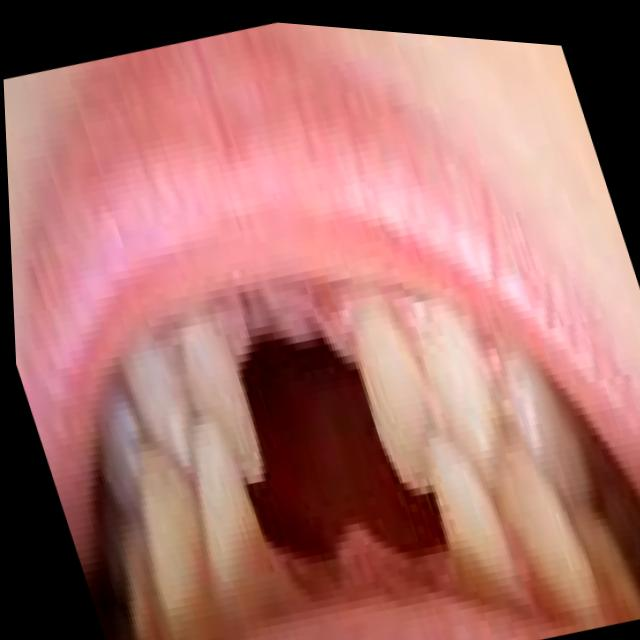hypodontia: (194, 273, 398, 478), (235, 464, 460, 588)
